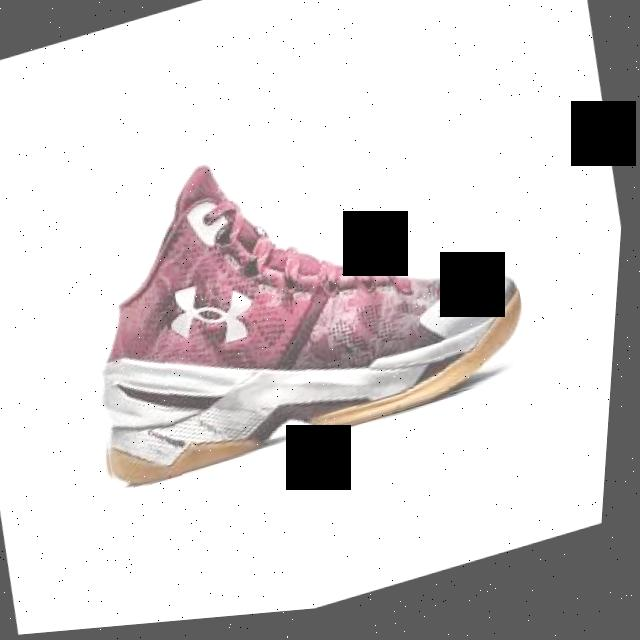shoe: (55, 85, 553, 504)
